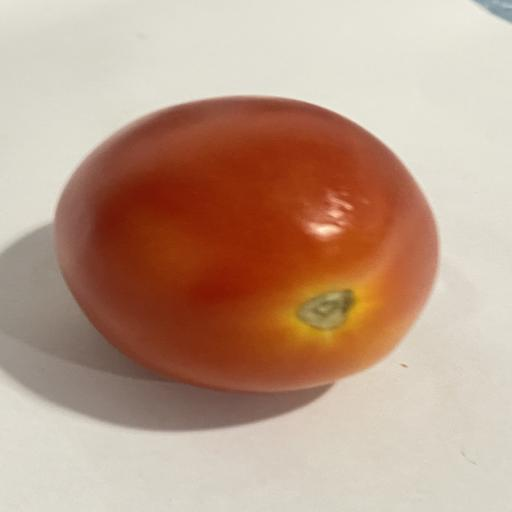ripe: (54, 97, 438, 392)
